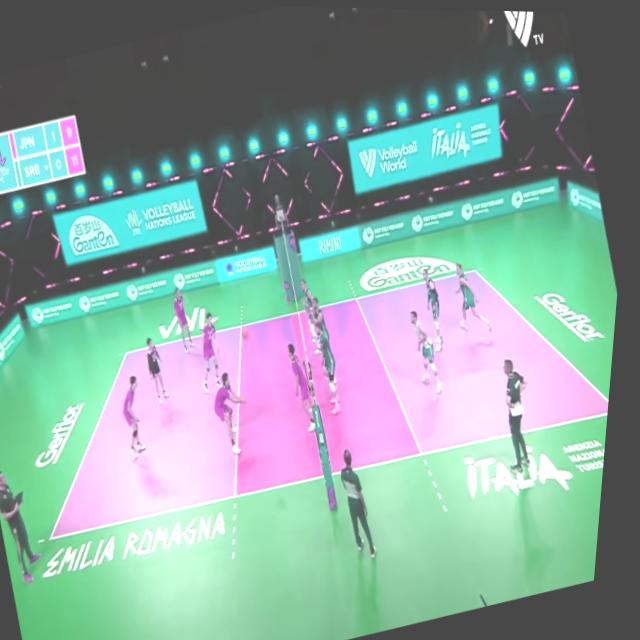player: (210, 367, 264, 458), (406, 303, 456, 397), (282, 338, 328, 433), (311, 321, 356, 415), (118, 371, 165, 461), (449, 252, 500, 328), (418, 265, 461, 352), (191, 312, 237, 392), (141, 330, 185, 411), (299, 270, 338, 344), (169, 284, 205, 356), (307, 288, 339, 347)
